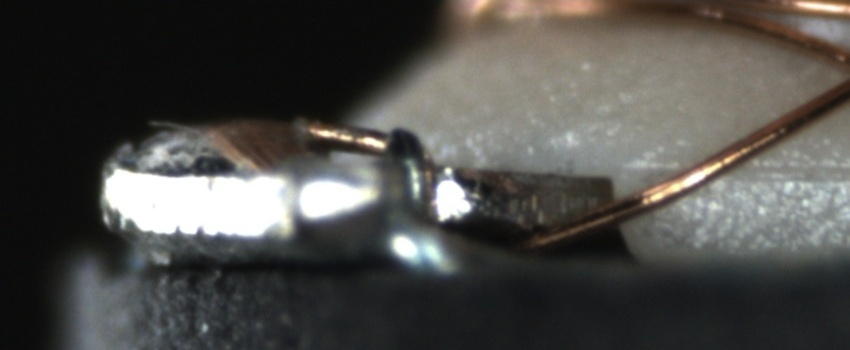CL: (832, 41, 850, 100)
DL: (634, 141, 849, 196)
TE: (294, 110, 440, 150)
